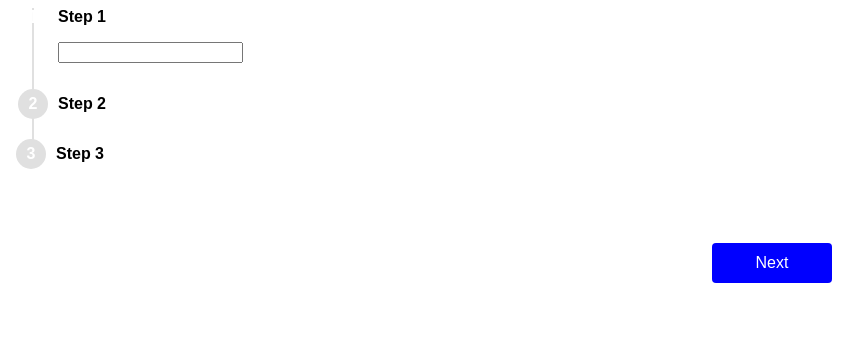
it: VerticalStepper Component › updates validation error on input change
This screenshot has width=849, height=360.
# Click next to show error
Click the button with test id "test-stepper-continue-button-0" at (772, 263), box x1=712 y1=243 x2=832 y2=283
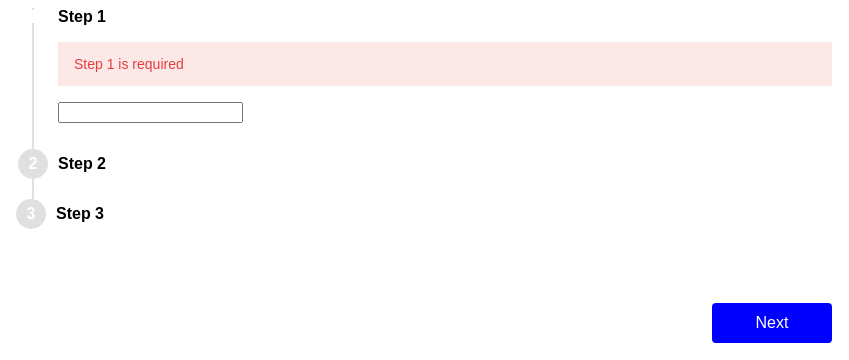
Result: the text "Step 1 is required" is shown at x1=58 y1=42 x2=832 y2=86
# Type valid input and verify error disappears
Type "Step 1 data" into the field with test id "step1-input" at (151, 113), box x1=58 y1=102 x2=243 y2=123
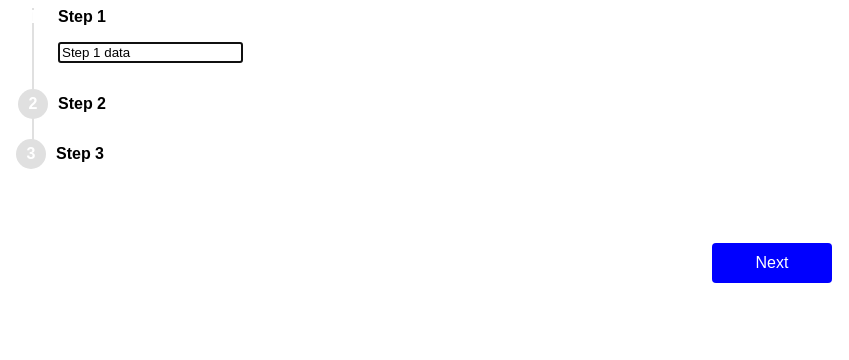
Result: the text with test id "test-stepper-validation-error" is gone
